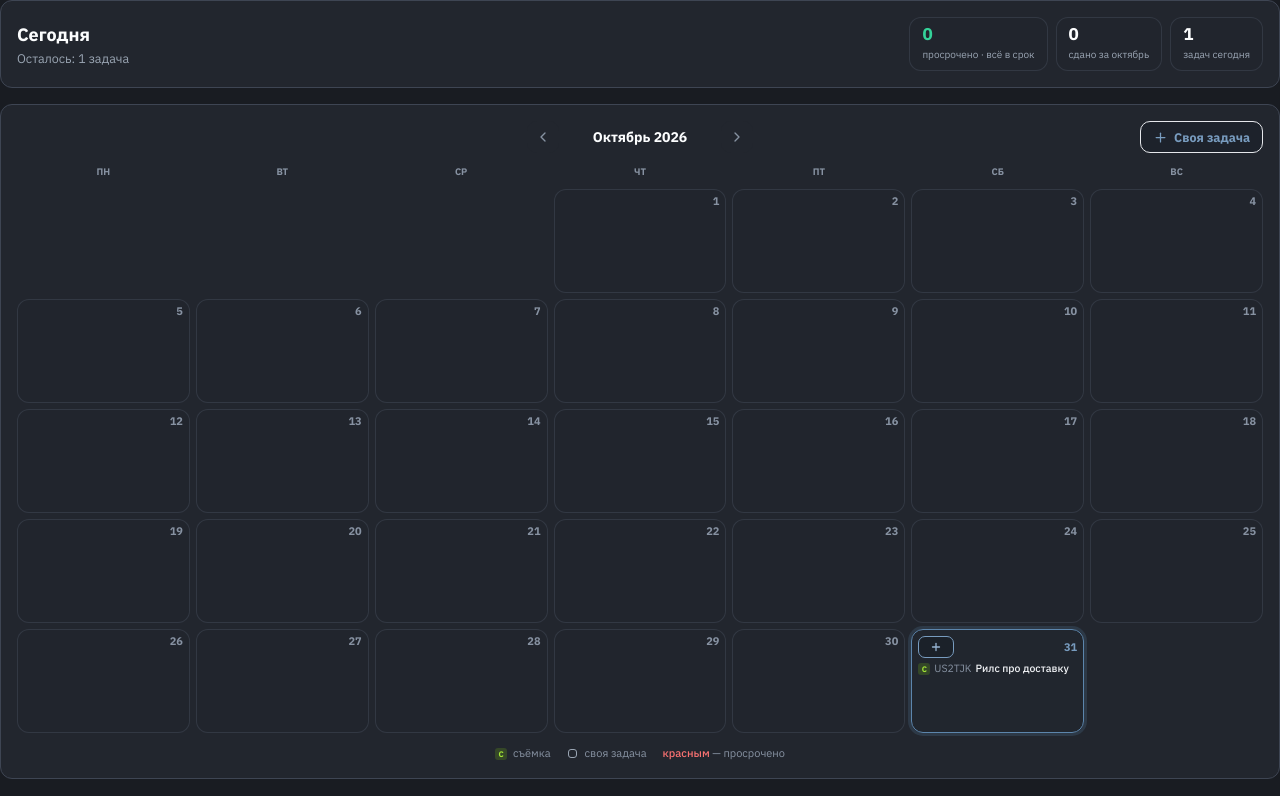
Scenario: кабинет производства — окно дня › нажатие на день открывает окно с задачами этого дня, крестик закрывает
This screenshot has width=1280, height=796.
Check: the text "Рилс про доставку" is shown, box 975,662 -> 1069,676
Click the button "31 С US2TJK Рилс про доставку". click: (998, 681)
box: 911,629 -> 1084,733
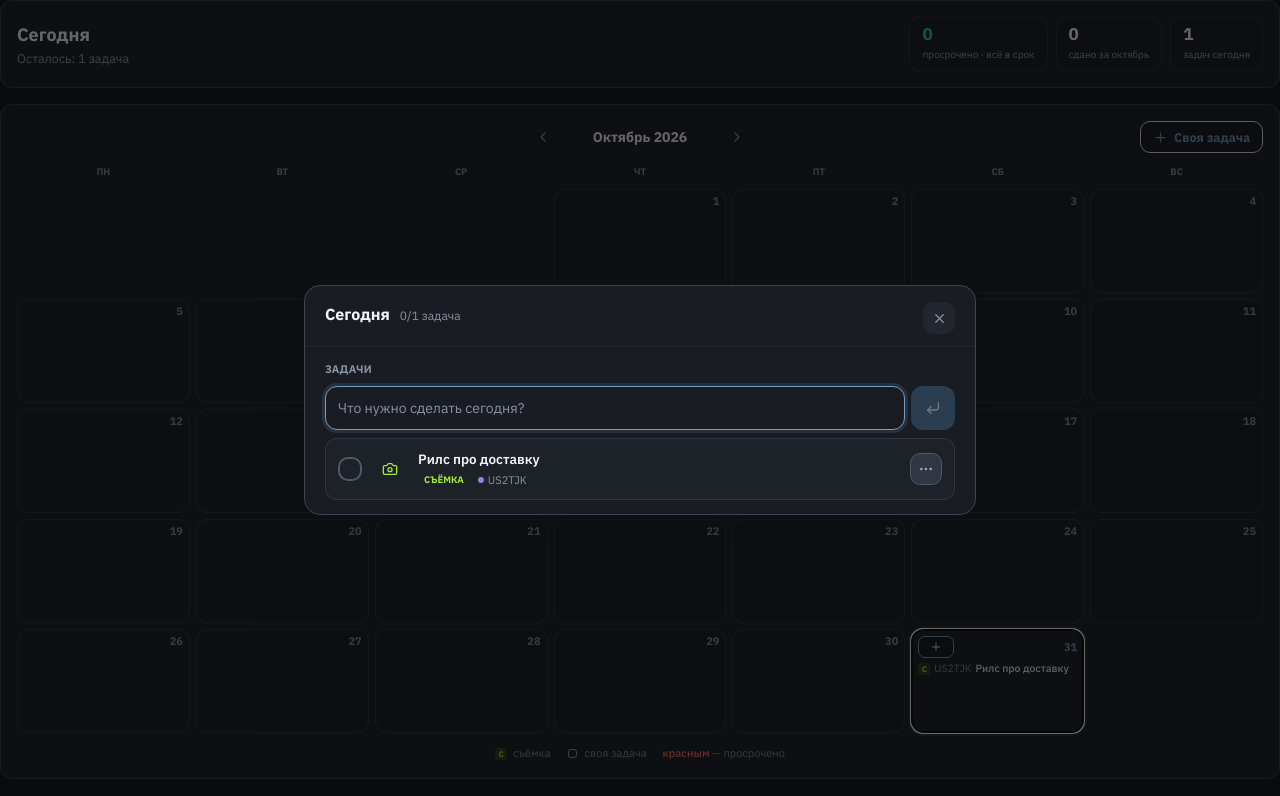
Check: the heading "Сегодня" is shown, box 325,302 -> 390,326
Check: the text "Рилс про доставку" is shown, box 418,450 -> 540,468
Check: the field named "Новая своя задача" is shown, box 338,398 -> 898,418
Click the button titled "Закрыть". click: (939, 318)
box: 923,302 -> 955,334
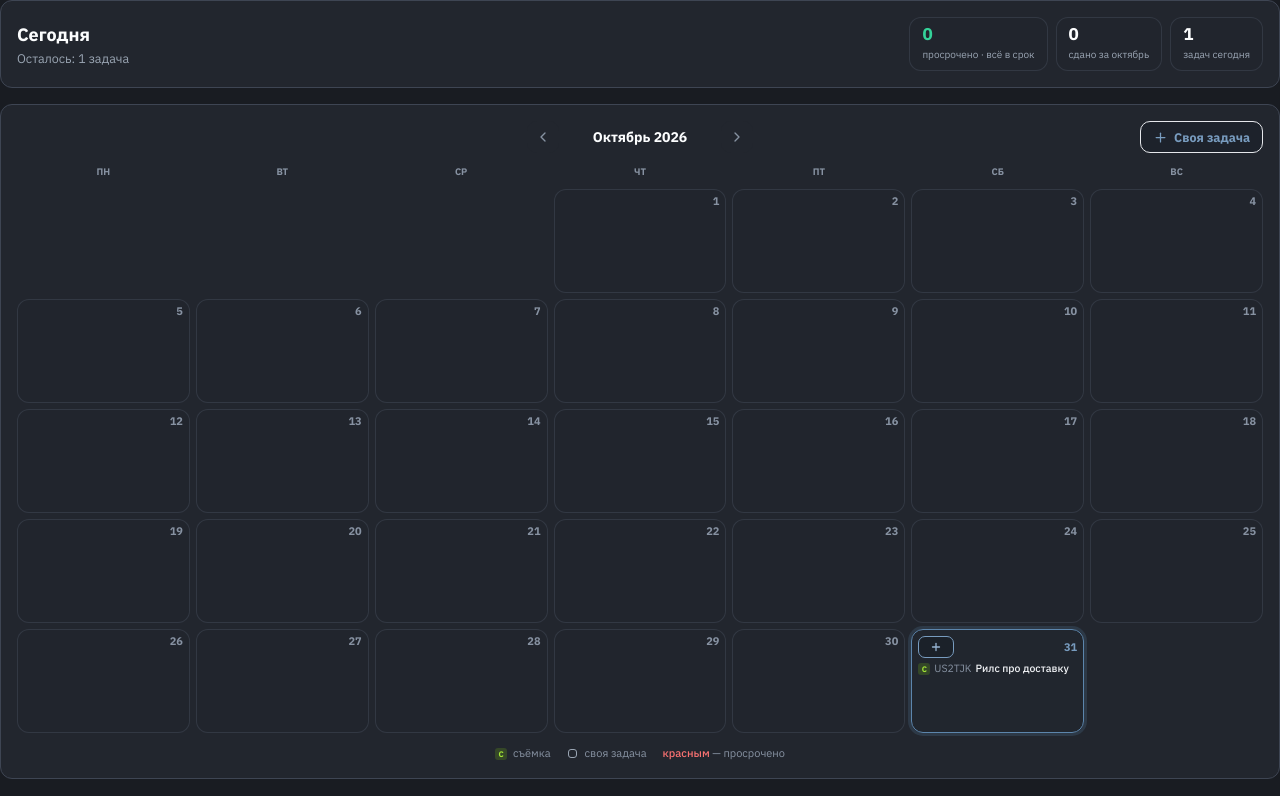
Check: the dialog is gone
